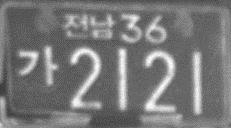1: (188, 49, 205, 117), (116, 45, 128, 112)
2: (142, 48, 176, 115), (70, 45, 103, 110)
3: (119, 12, 143, 43)
6: (144, 15, 168, 44)
가: (17, 43, 57, 87)
전남_O: (62, 12, 116, 41)
